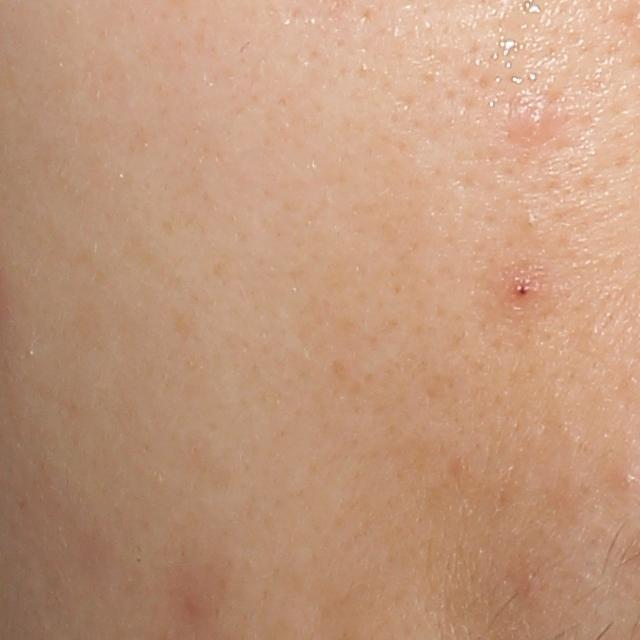comedo: (515, 206, 549, 239)
papule: (514, 101, 560, 143)
